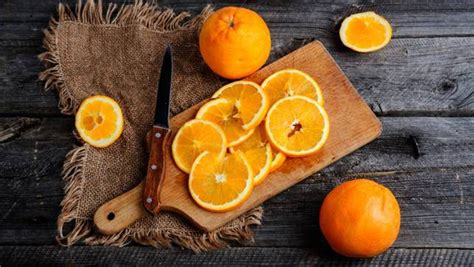orange: (316, 176, 403, 259), (198, 5, 272, 79)
